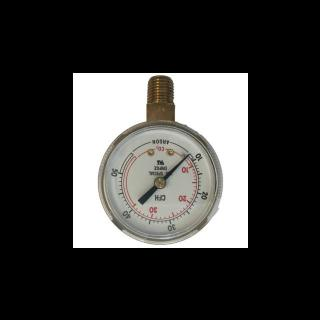gauge: (93, 120, 225, 245), (178, 148, 196, 164), (154, 176, 166, 188), (129, 149, 139, 161), (184, 150, 192, 158)
